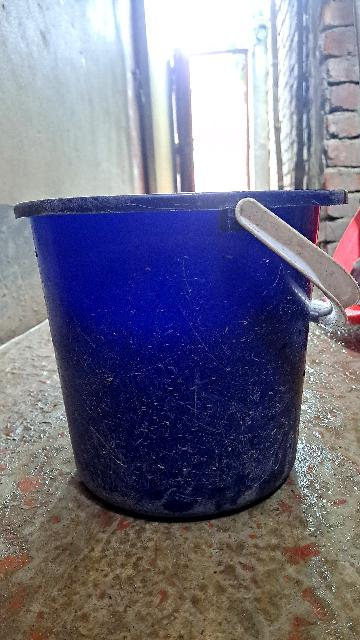hardplastic: (16, 188, 341, 515)
